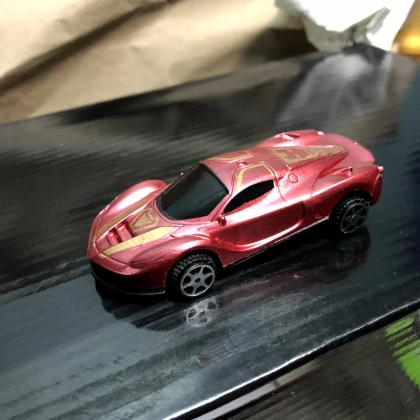Car: (86, 130, 384, 301)
